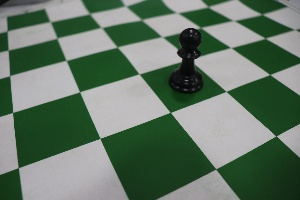black_pawn: (164, 15, 215, 95)
